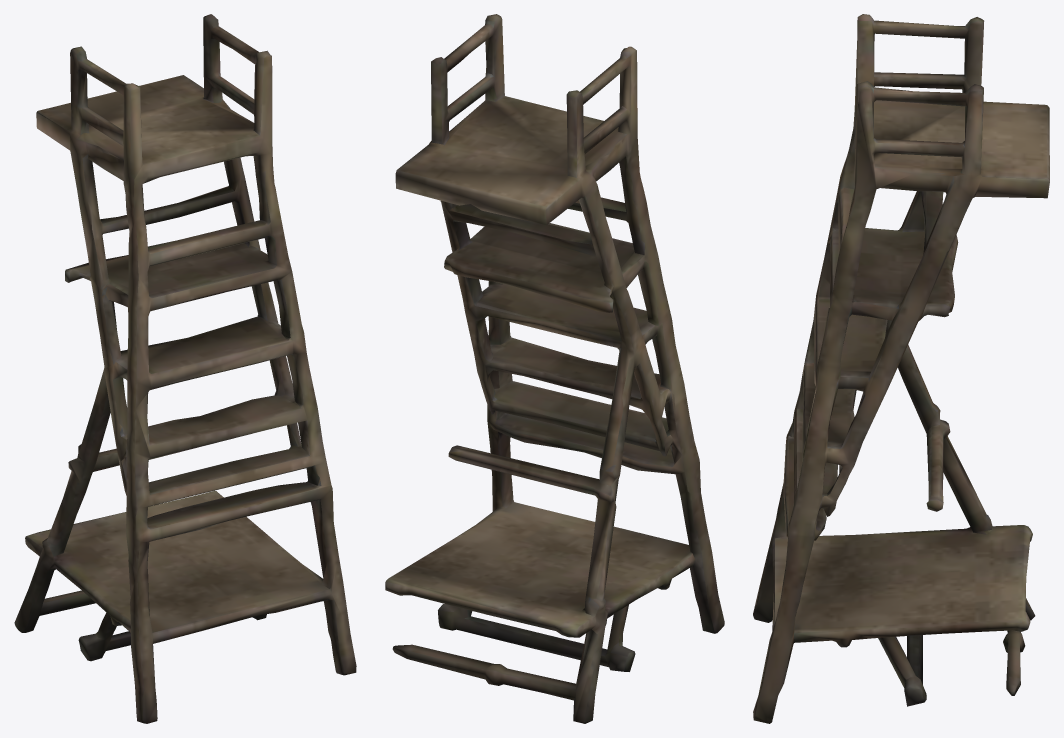
The model's file is sturdy-wood-scaffold-tower-v003.glb.
The picture shows the model from 3 angles, left to right: view 1: azimuth 30°, elevation 25°; view 2: azimuth 150°, elevation 25°; view 3: azimuth 270°, elevation 25°; orthographic projection. The views are drawn at different scales.
Parts seen in each view (by area): view 1: sturdy-wood-scaffold-tower; view 2: sturdy-wood-scaffold-tower; view 3: sturdy-wood-scaffold-tower.
Boxes of the visible parts, bbox=[...] form: sturdy-wood-scaffold-tower: bbox=[14, 14, 356, 723]; sturdy-wood-scaffold-tower: bbox=[385, 14, 724, 723]; sturdy-wood-scaffold-tower: bbox=[753, 14, 1049, 723].
Bounding box in the file's own units: 0.969 × 2.59 × 1.12.
1 material, 1 textured.
